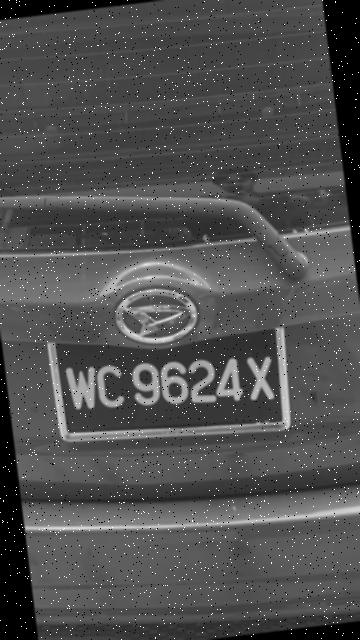License_Plate: (51, 319, 302, 453)
car: (1, 1, 360, 640)
